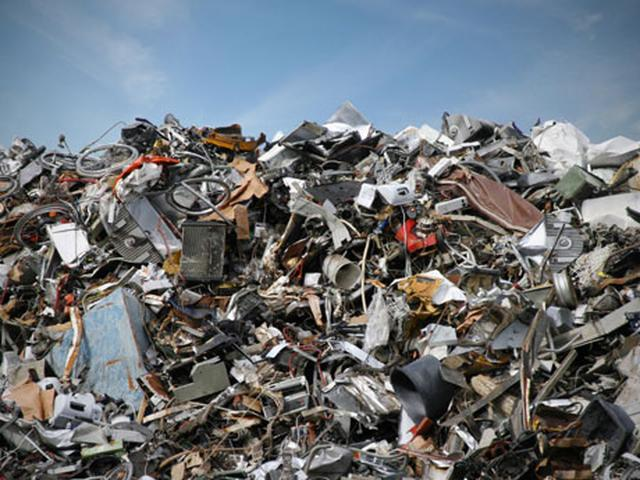garbage: (15, 173, 613, 449)
